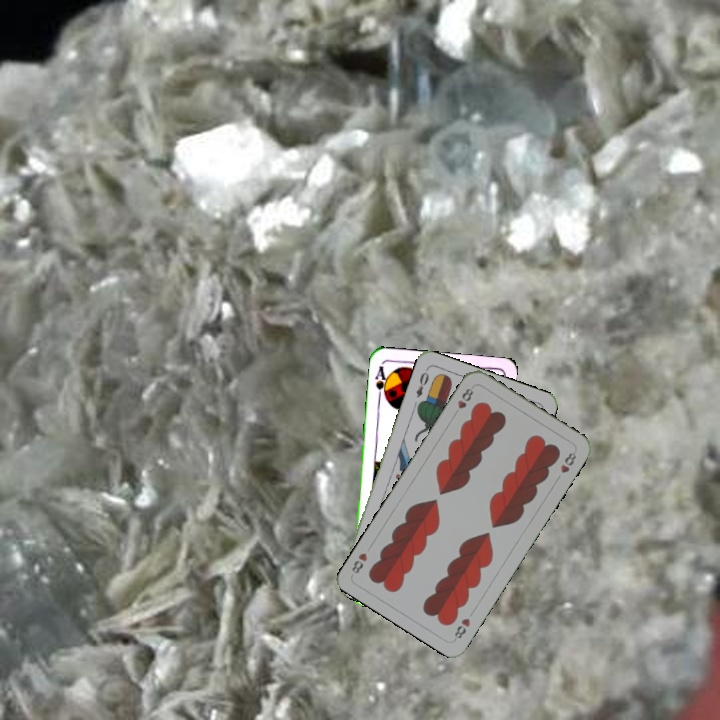EO: (412, 365, 431, 400)
H8: (450, 382, 476, 419), (450, 614, 473, 643)
SA: (371, 362, 391, 402)
